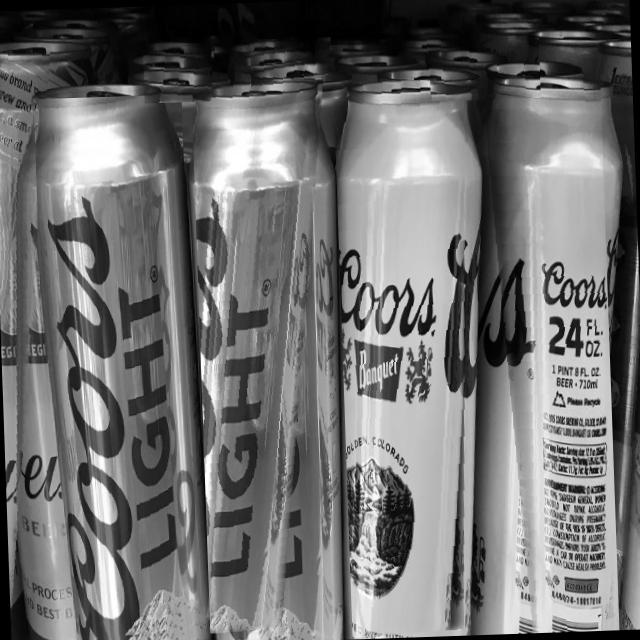Cans: (33, 93, 200, 640), (191, 79, 343, 637), (333, 78, 484, 639), (480, 62, 620, 634), (0, 49, 70, 640), (616, 87, 640, 629), (426, 34, 540, 102), (142, 42, 216, 104), (249, 37, 333, 88)
